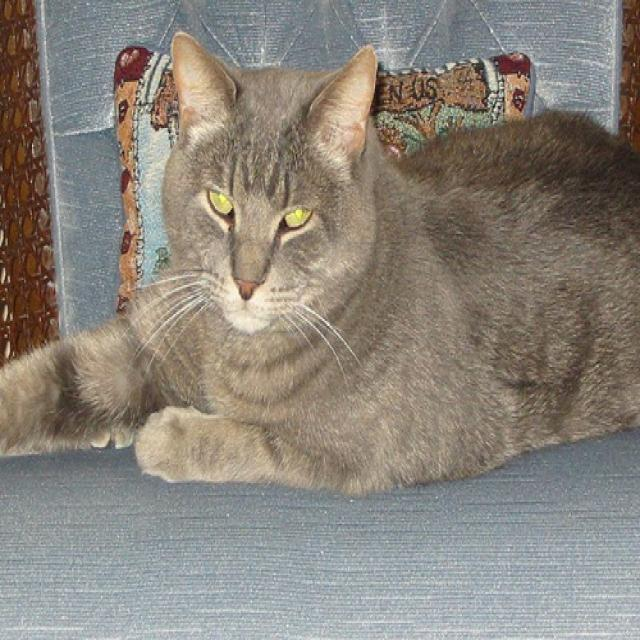left eye: (278, 203, 314, 232)
